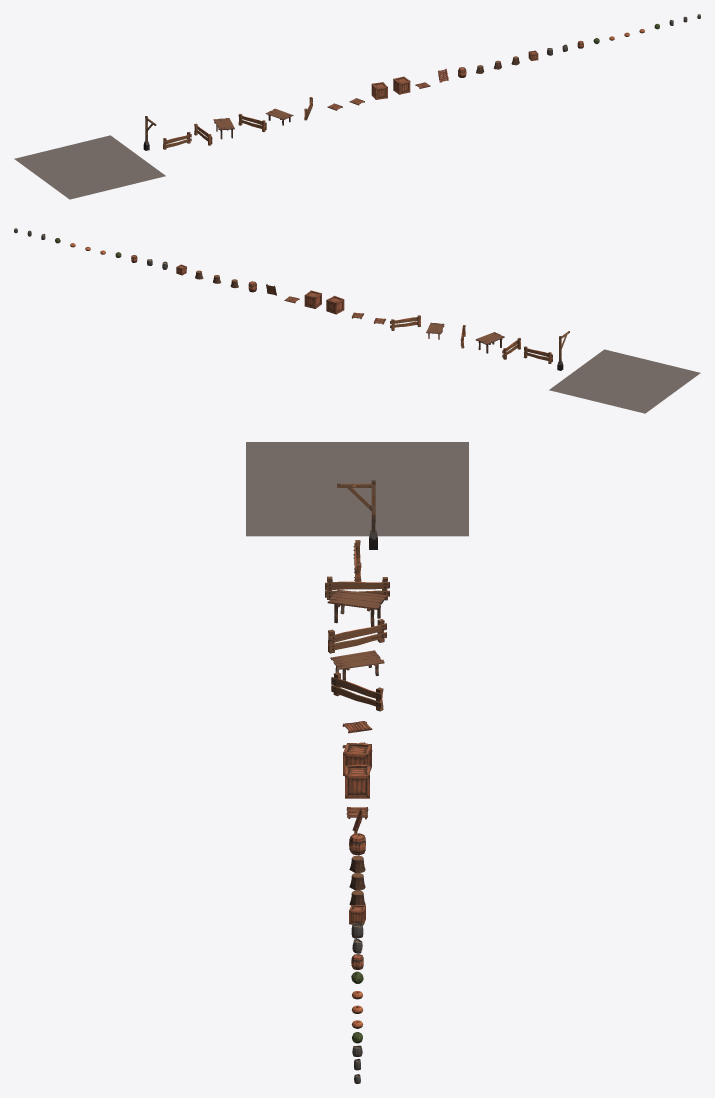
Rendered from FarmProps.fbx.
3 views of the same model, one above another, from view 1: azimuth 30°, elevation 25°; view 2: azimuth 150°, elevation 25°; view 3: azimuth 270°, elevation 25° (orthographic). The views are drawn at different scales.
Visible parts, largest first — view 1: FarmProps_01; view 2: FarmProps_01; view 3: FarmProps_01, FarmProps_05, FarmProps_06.
Boxes of the visible parts, x1,y1,x2,y2 form: FarmProps_01: [14, 135, 165, 199]; FarmProps_01: [549, 349, 700, 413]; FarmProps_01: [246, 442, 468, 536]; FarmProps_05: [327, 589, 387, 626]; FarmProps_06: [328, 619, 386, 653].
Bounding box in the file's own units: 63.94 × 3.09 × 9.37.
11 materials, 10 textured.
